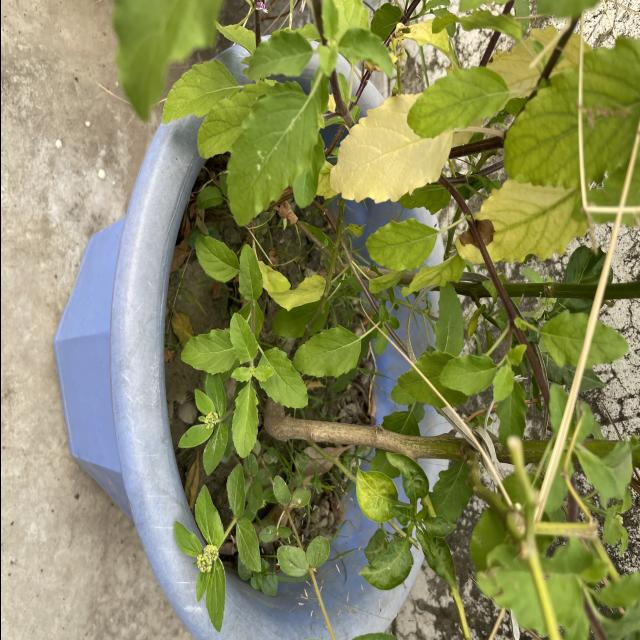Breeding Place: (52, 34, 427, 640)
